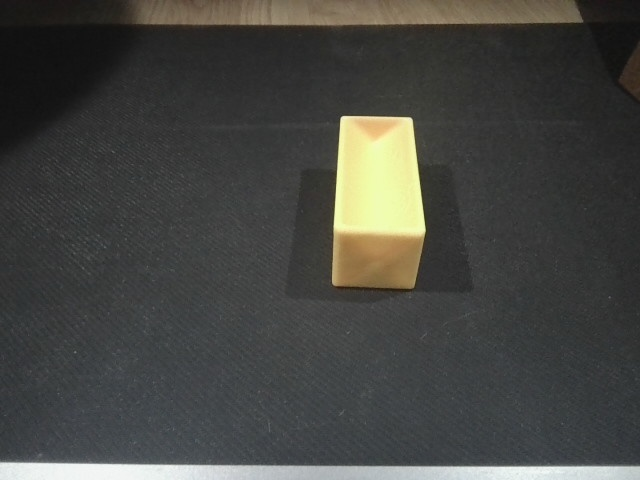YellowSample: (324, 110, 432, 292)
